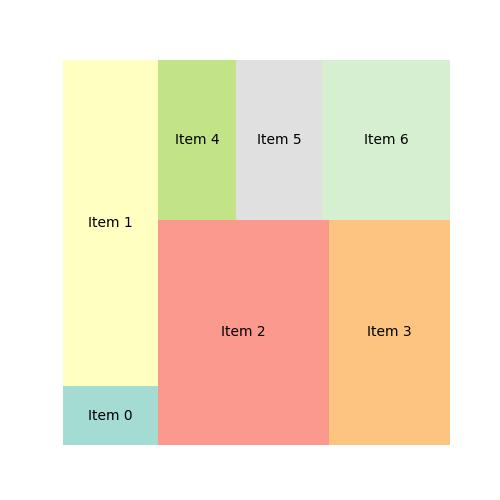rectangle: (157, 219, 329, 444), (64, 61, 159, 388), (329, 219, 451, 446), (324, 61, 452, 219), (236, 60, 326, 219), (158, 59, 236, 221), (64, 387, 158, 445)
